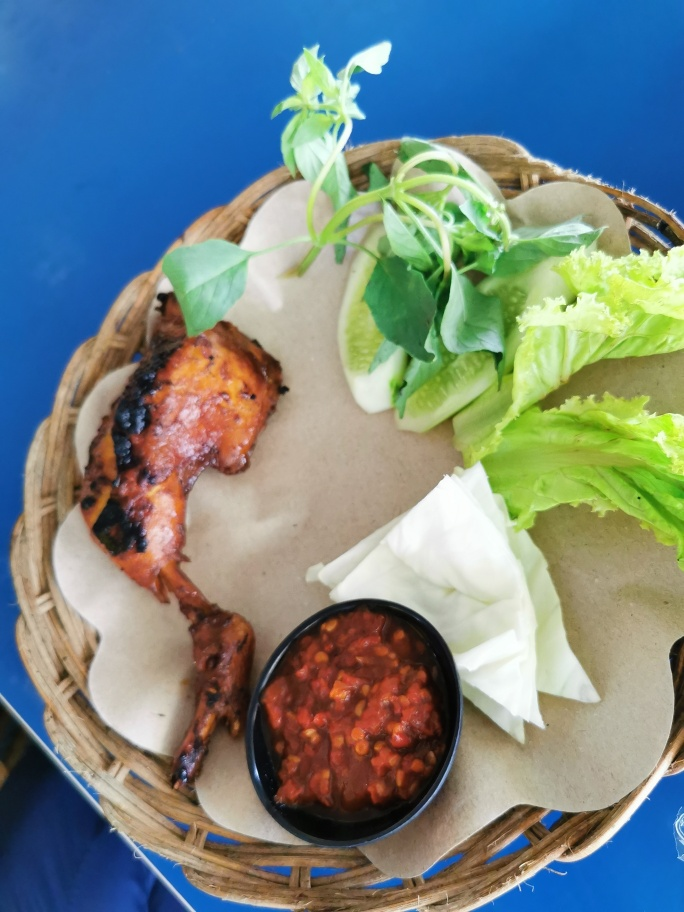ayam bakar: (73, 291, 301, 799)
